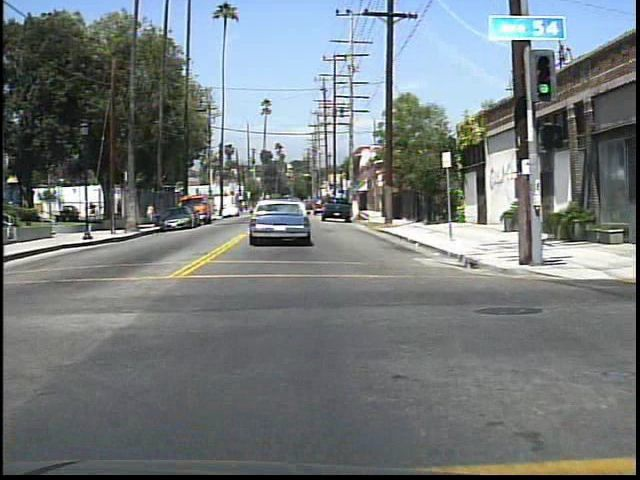person: (145, 197, 156, 227), (112, 195, 125, 219), (90, 198, 98, 220)
